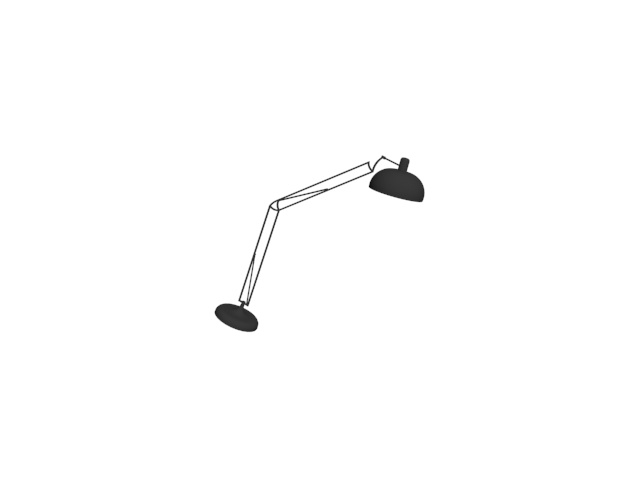desk_lamp: (209, 153, 432, 336)
